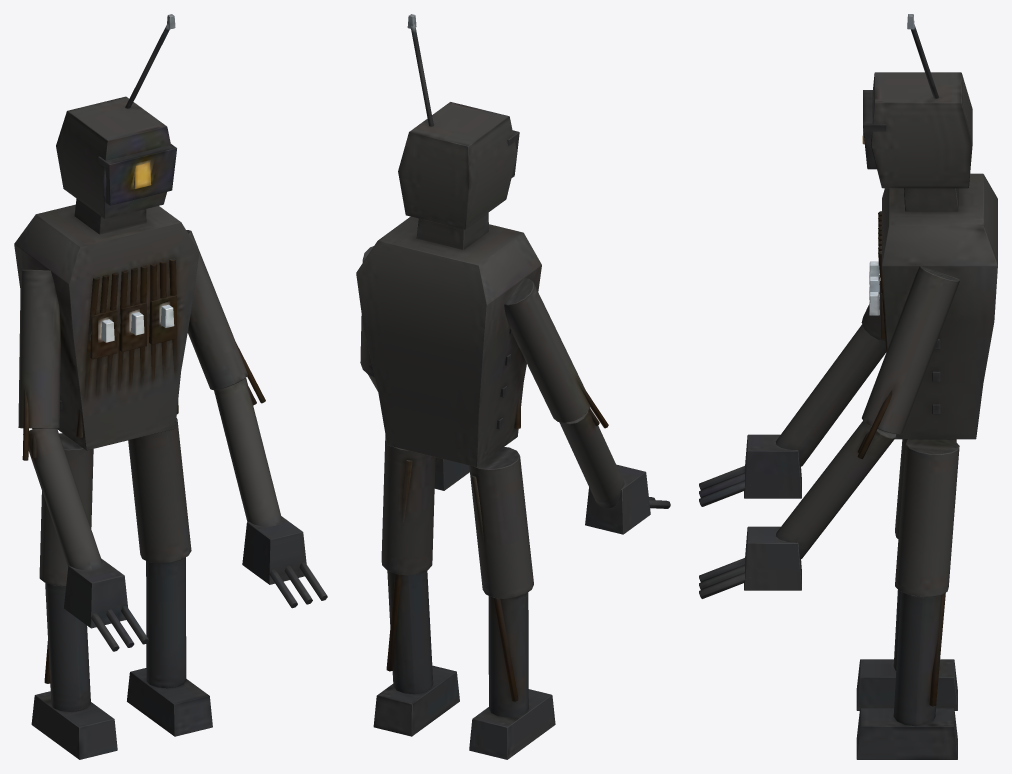
File: MN_spark.glb
3 renders of one model, left to right at view 1: azimuth 30°, elevation 25°; view 2: azimuth 150°, elevation 25°; view 3: azimuth 270°, elevation 25°, orthographic. The views are drawn at different scales.
Parts seen in each view (by area): view 1: MN_spark; view 2: MN_spark; view 3: MN_spark.
Boxes of the visible parts, x1,y1,x2,y2 form: MN_spark: (14,14,327,759); MN_spark: (356,14,670,759); MN_spark: (699,14,997,759).
Bounding box in the file's own units: 0.8143 × 2.24 × 0.8238.
1 material, 1 textured.
